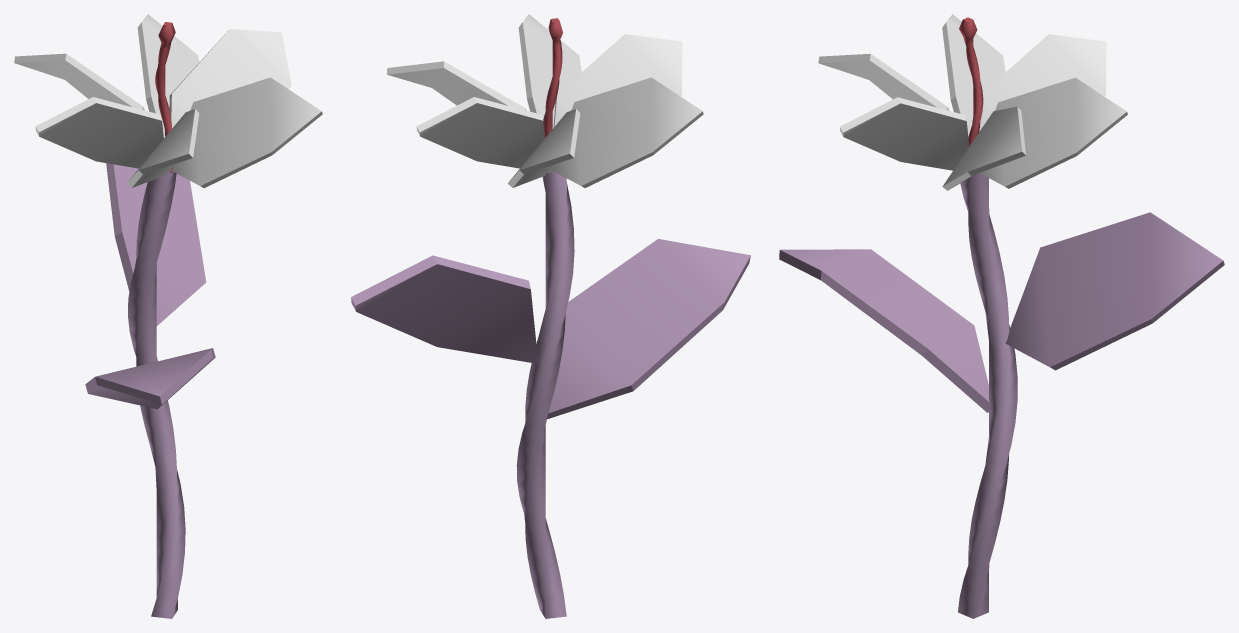
File: fleurBlanc.fbx
3 views of the same model, side by side, from view 1: azimuth 30°, elevation 25°; view 2: azimuth 150°, elevation 25°; view 3: azimuth 270°, elevation 25° (orthographic).
Parts seen in each view (by area): view 1: fleurBlanc; view 2: fleurBlanc; view 3: fleurBlanc.
Boxes of the visible parts, x1,y1,x2,y2 form: fleurBlanc: (14, 14, 322, 618); fleurBlanc: (351, 14, 750, 618); fleurBlanc: (779, 14, 1224, 618).
Bounding box in the file's own units: 9.38 × 18.87 × 12.85.
